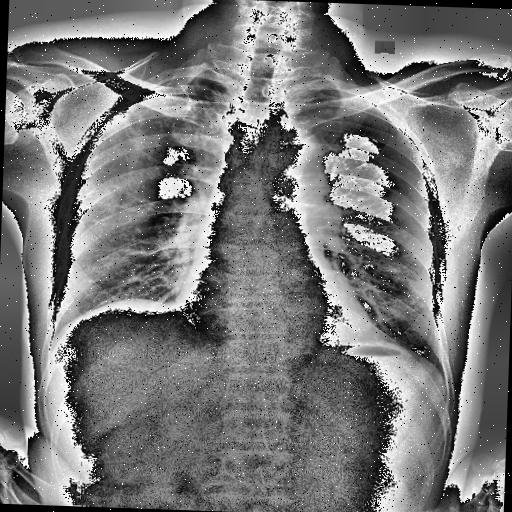0- Aortic enlargement: (274, 125, 328, 226), (266, 126, 324, 202)
6- Infiltration: (74, 122, 168, 226), (168, 78, 226, 151)
7- Lung Opacity: (64, 97, 176, 334)
